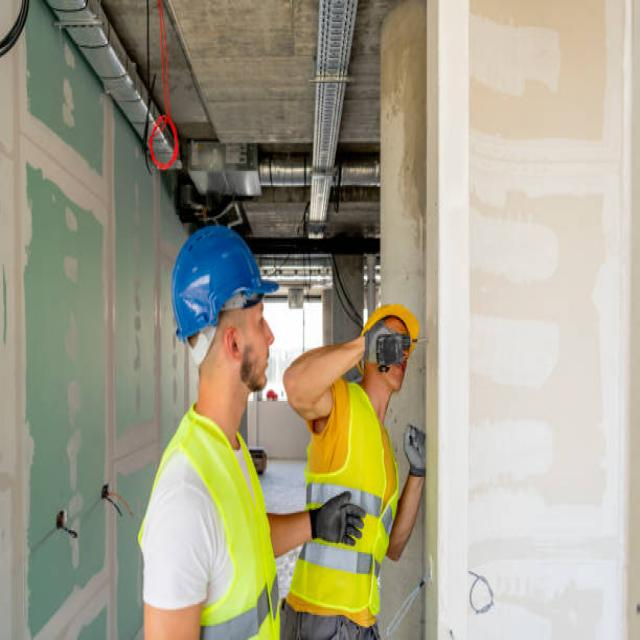gloves: (311, 490, 366, 544), (404, 421, 428, 482)
